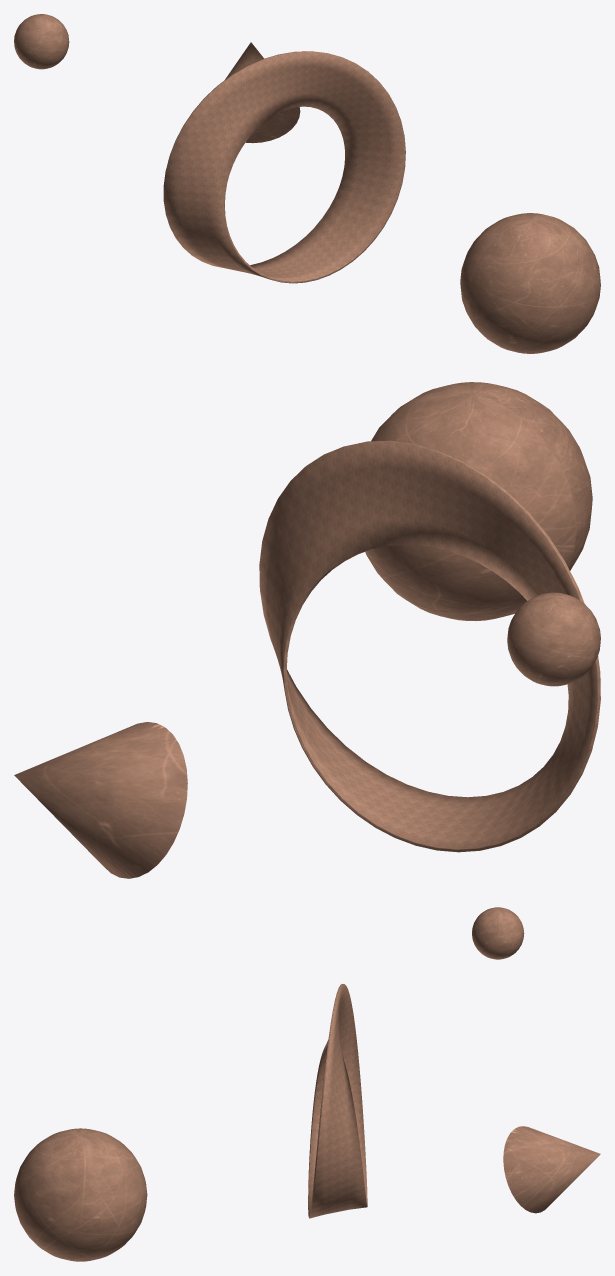
The model's file is mobius.glb.
3 views of the same model, one above another, from view 1: azimuth 30°, elevation 25°; view 2: azimuth 150°, elevation 25°; view 3: azimuth 270°, elevation 25° (orthographic). The views are drawn at different scales.
Parts seen in each view (by area): view 1: Mesh, Sphere; view 2: Mesh, Sphere; view 3: Sphere, Mesh.
Boxes of the visible parts, left/top/right/bottom form: Mesh: left=163, top=51, right=405, bottom=283; Sphere: left=14, top=14, right=600, bottom=353; Mesh: left=259, top=440, right=600, bottom=852; Sphere: left=14, top=382, right=600, bottom=878; Sphere: left=14, top=907, right=600, bottom=1261; Mesh: left=308, top=984, right=367, bottom=1218.
Bounding box in the file's own units: 141 × 89.75 × 215.
1 material, 1 textured.
